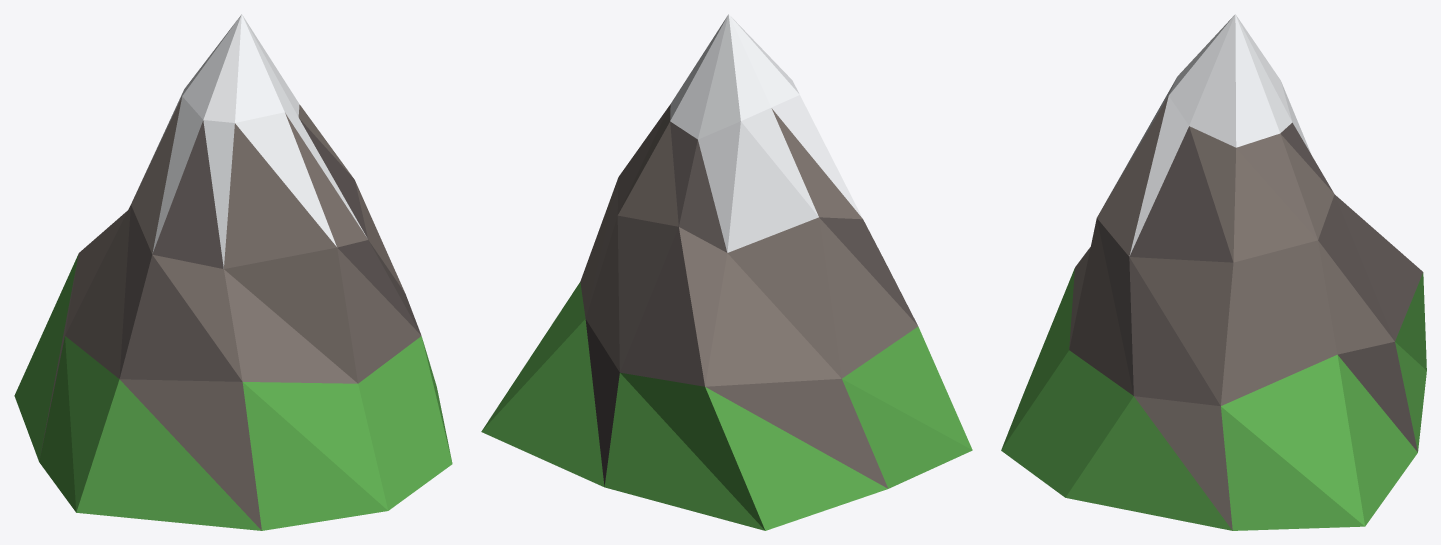
The model's file is Peak.fbx.
3 views of the same model, side by side, from view 1: azimuth 30°, elevation 25°; view 2: azimuth 150°, elevation 25°; view 3: azimuth 270°, elevation 25° (orthographic).
Parts seen in each view (by area): view 1: Peak; view 2: Peak; view 3: Peak.
Boxes of the visible parts, box(x1,y1,x2,y2) form: Peak: box(14, 14, 452, 530); Peak: box(481, 14, 972, 530); Peak: box(1001, 14, 1426, 530).
Bounding box in the file's own units: 99.76 × 100 × 91.5.
